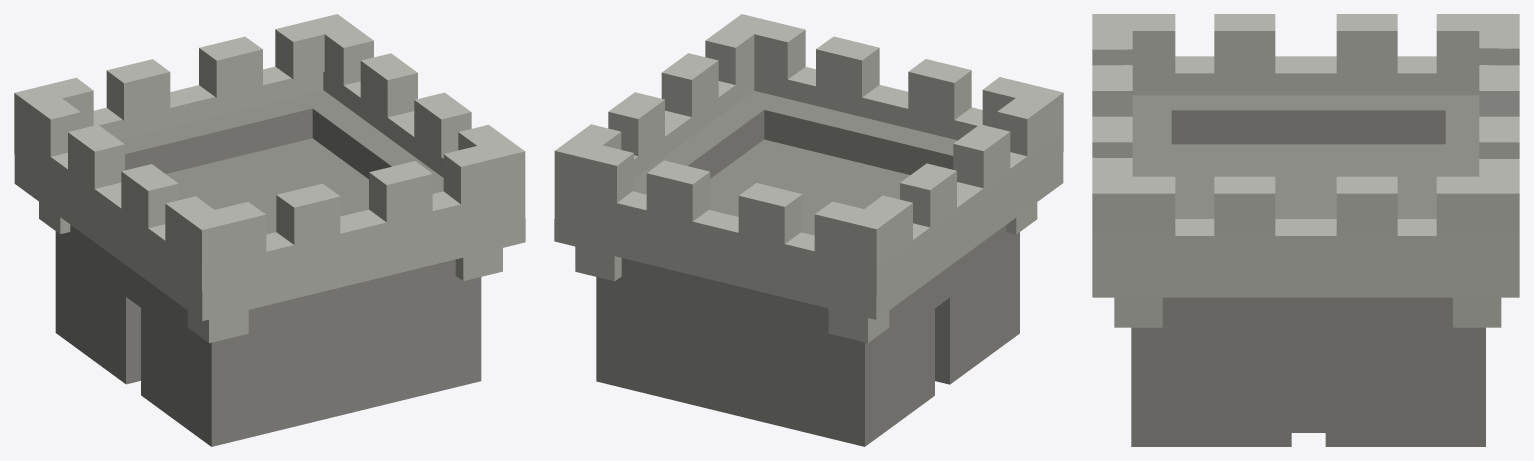
The model's file is 1x1x5_fulltop.fbx.
The picture shows the model from 3 angles, left to right: view 1: azimuth 30°, elevation 25°; view 2: azimuth 150°, elevation 25°; view 3: azimuth 270°, elevation 25°; orthographic projection. The views are drawn at different scales.
Visible parts, largest first — view 1: polySurface232; view 2: polySurface232; view 3: polySurface232.
Part boxes in pixels (x1,y1,x2,y2): polySurface232: [14, 14, 525, 446]; polySurface232: [554, 14, 1063, 446]; polySurface232: [1092, 14, 1519, 446].
Size of the model in its own units: 120 by 83.52 by 120.
1 material, 1 textured.
